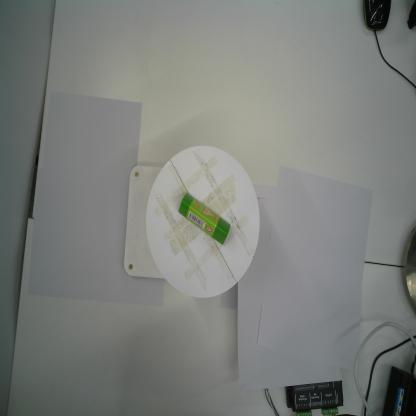Stationery: (178, 191, 232, 248)
